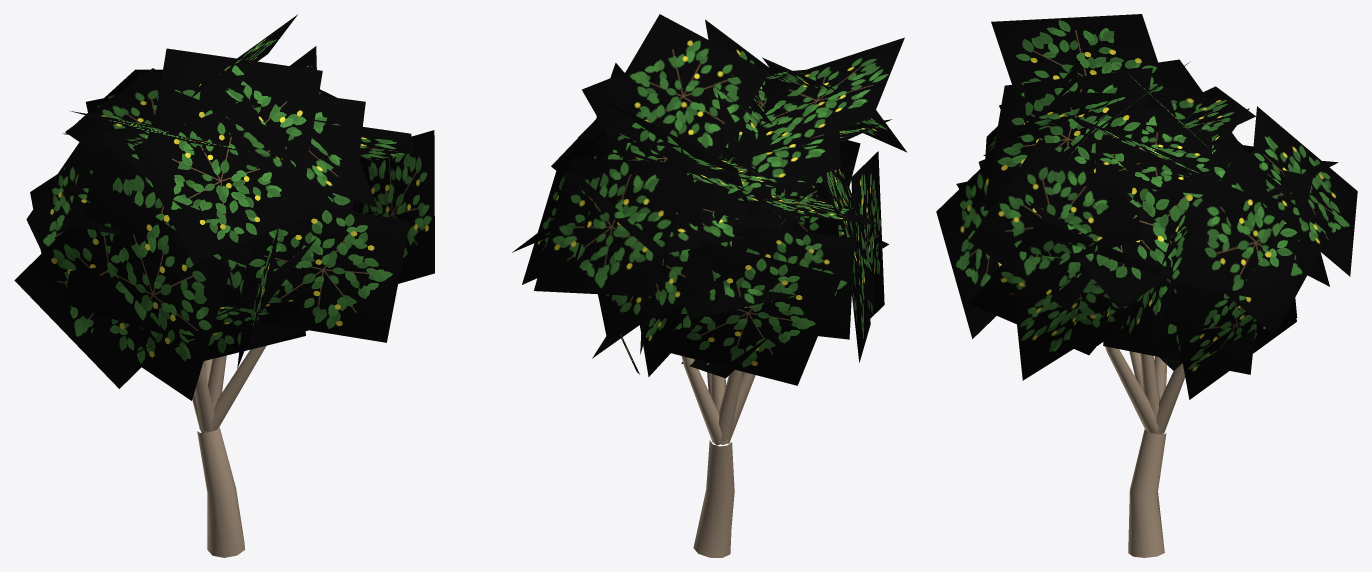
The model's file is citrus-limon.glb.
3 renders of one model, left to right at view 1: azimuth 30°, elevation 25°; view 2: azimuth 150°, elevation 25°; view 3: azimuth 270°, elevation 25°, orthographic. The views are drawn at different scales.
Parts seen in each view (by area): view 1: folhas, tronco; view 2: folhas, tronco; view 3: folhas, tronco.
Part boxes in pixels (left/top/right/bottom): folhas: left=14, top=14, right=434, bottom=400; tronco: left=192, top=345, right=266, bottom=557; folhas: left=512, top=14, right=907, bottom=385; tronco: left=681, top=356, right=755, bottom=557; folhas: left=936, top=14, right=1357, bottom=399; tronco: left=1105, top=346, right=1185, bottom=557.
Size of the model in its own units: 2.97 by 4 by 3.
Materials: 2 (1 with a texture image).
